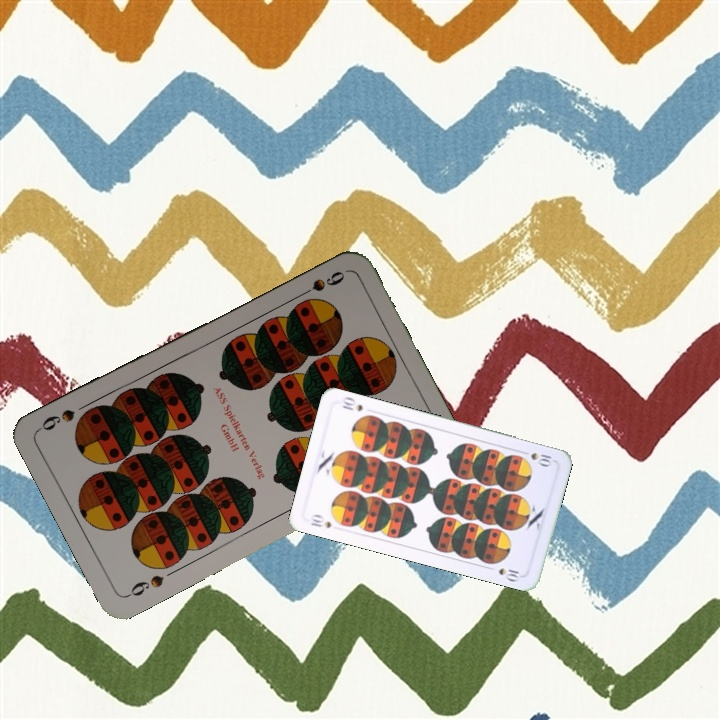S10: (517, 446, 556, 468), (306, 510, 334, 531)
S9: (293, 267, 348, 301), (123, 570, 167, 600)
